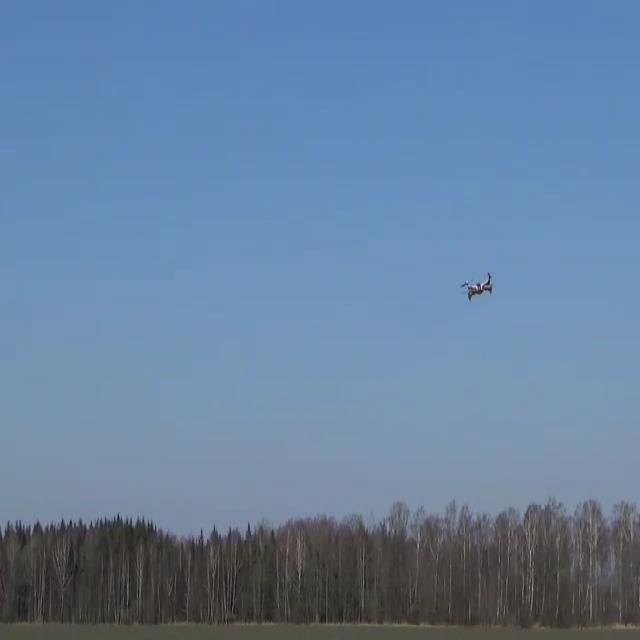Drone: (464, 276, 498, 304)
